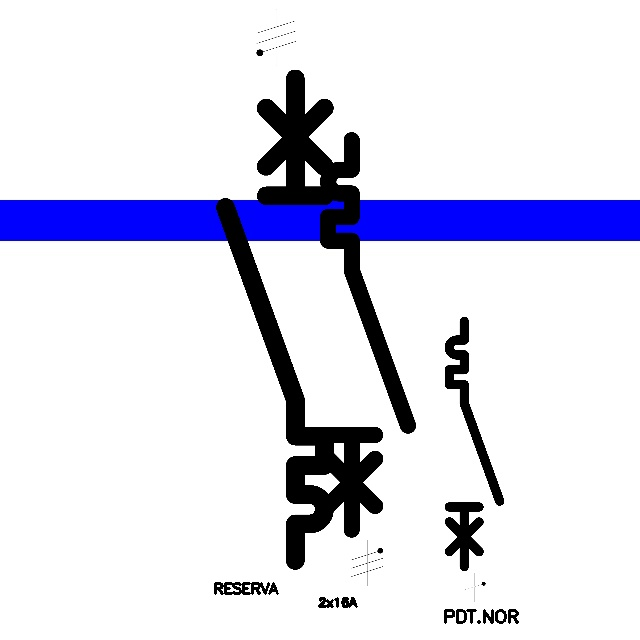interruptor_termomagnetico: (213, 66, 337, 573), (318, 130, 418, 539), (443, 315, 506, 573)
